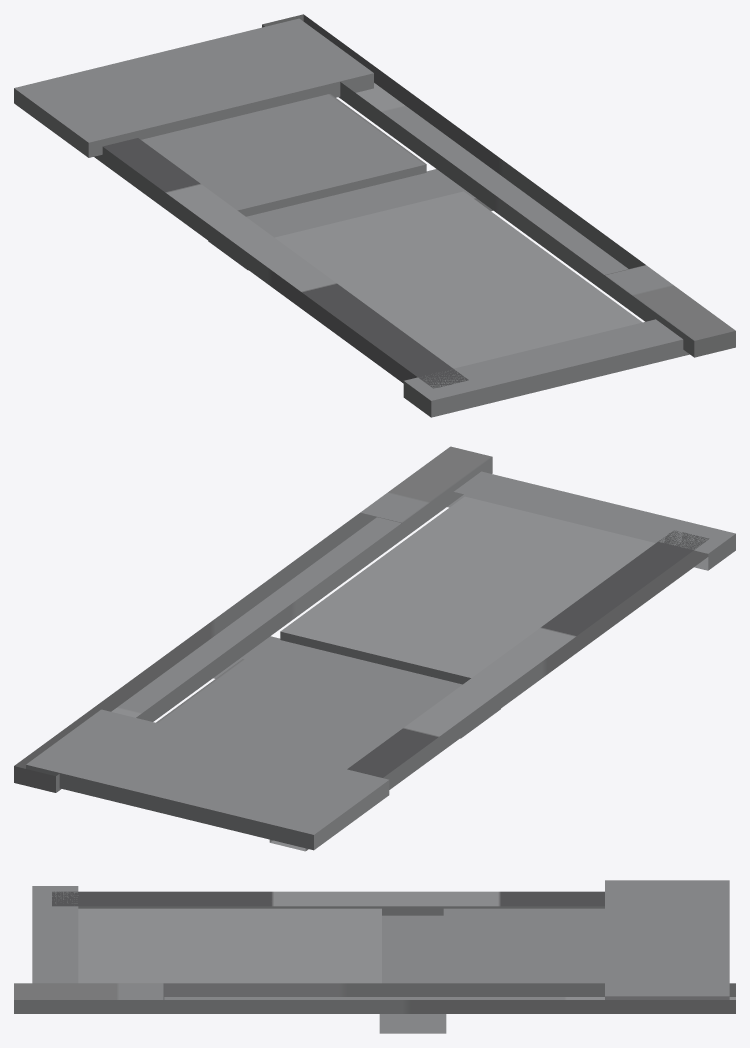
3 views of the same model, one above another, from view 1: azimuth 30°, elevation 25°; view 2: azimuth 150°, elevation 25°; view 3: azimuth 270°, elevation 25° (orthographic). The views are drawn at different scales.
Size of the model in its own units: 0.7911 by 0.0865 by 1.94.
